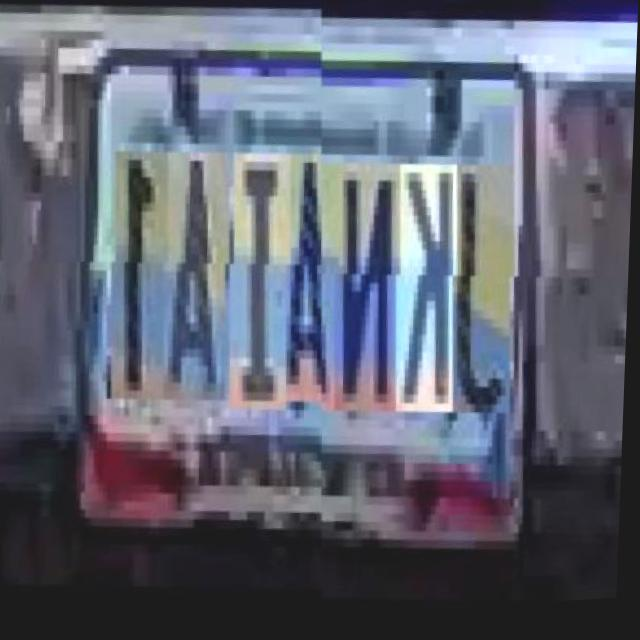1: (103, 167, 170, 422)
a: (156, 167, 233, 423), (270, 169, 342, 425)
i: (221, 168, 293, 433)
j: (445, 172, 517, 427)
k: (388, 171, 461, 426)
n: (326, 170, 403, 425)
